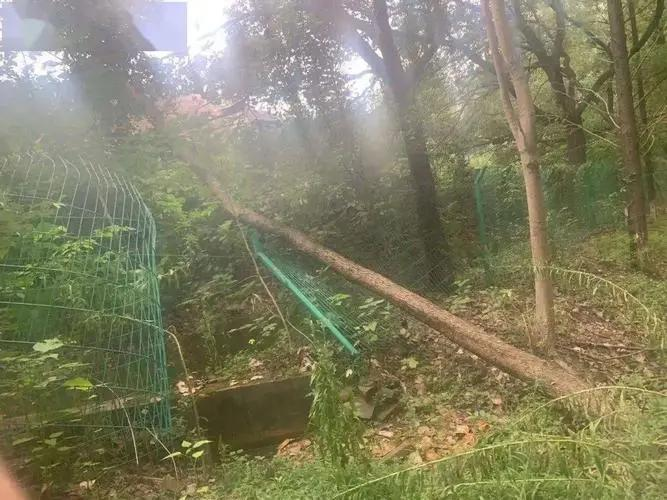Downstairs: (47, 1, 599, 415)
